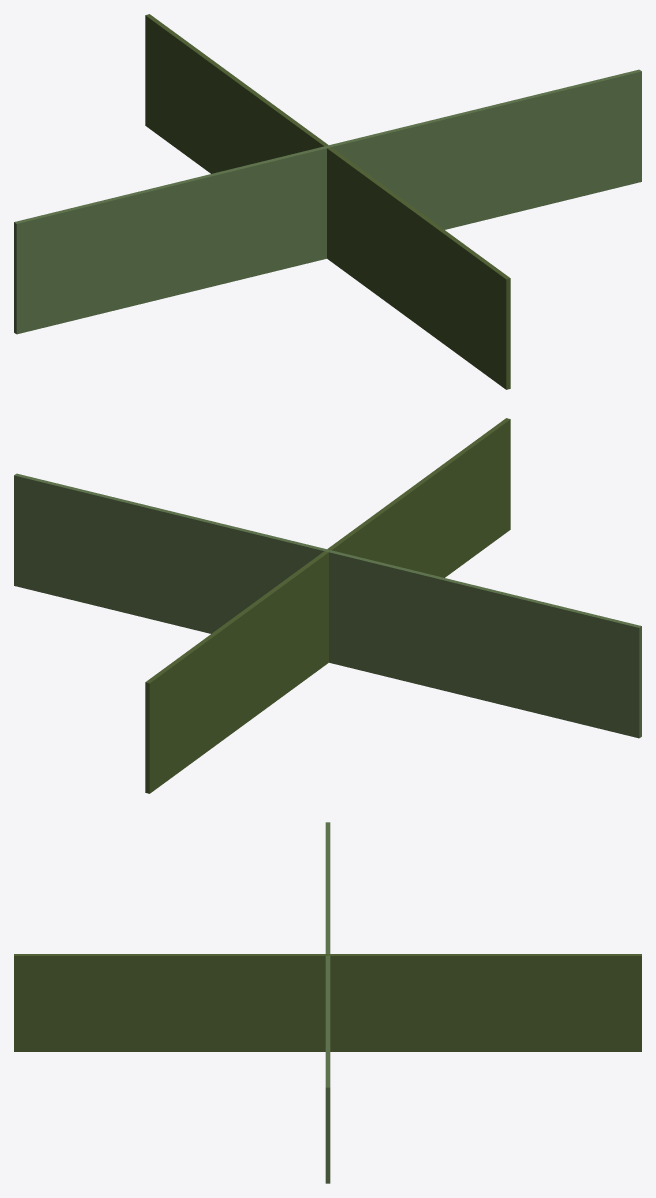
The model's file is maze1.fbx.
The picture shows the model from 3 angles, top to bottom: view 1: azimuth 30°, elevation 25°; view 2: azimuth 150°, elevation 25°; view 3: azimuth 270°, elevation 25°; orthographic projection. The views are drawn at different scales.
Parts seen in each view (by area): view 1: Cube, Cube.001; view 2: Cube, Cube.001; view 3: Cube.001, Cube.
Part boxes in pixels (left/top/right/bottom): Cube: left=14, top=69, right=641, bottom=334; Cube.001: left=145, top=14, right=510, bottom=389; Cube: left=14, top=473, right=641, bottom=738; Cube.001: left=145, top=418, right=510, bottom=793; Cube.001: left=14, top=954, right=641, bottom=1051; Cube: left=325, top=822, right=330, bottom=1183.
Bounding box in the file's own units: 1185 × 200 × 1185.
